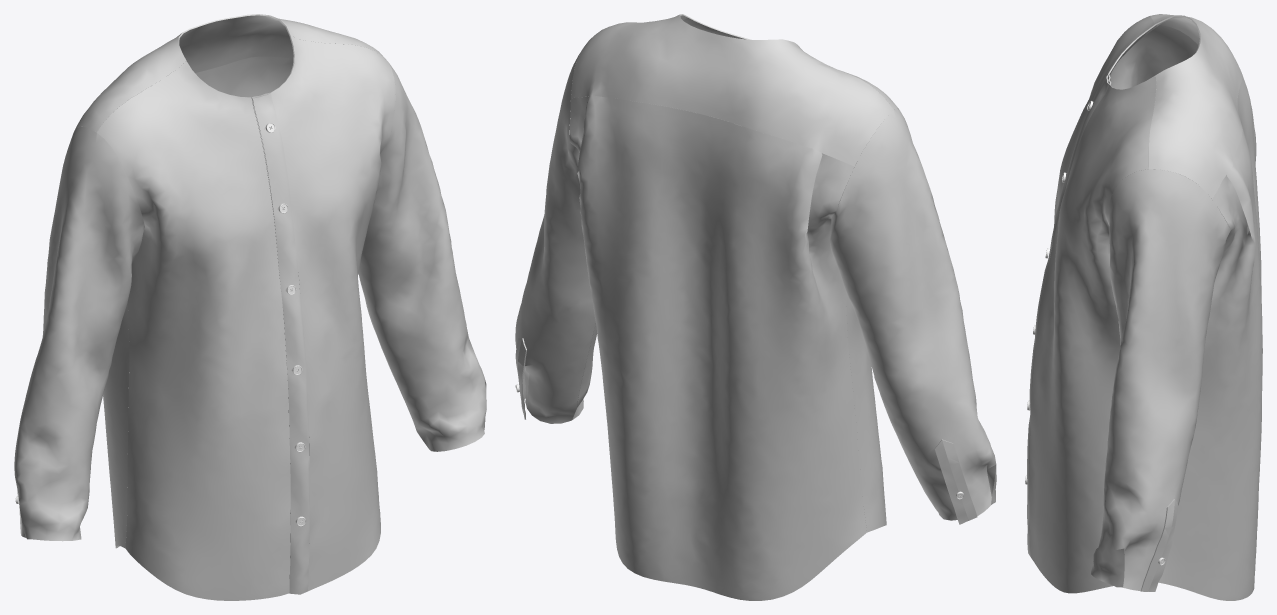
The model's file is shirt-without-cuff-and-collar-1.glb.
The picture shows the model from 3 angles, left to right: view 1: azimuth 30°, elevation 25°; view 2: azimuth 150°, elevation 25°; view 3: azimuth 270°, elevation 25°; orthographic projection. The views are drawn at different scales.
Parts seen in each view (by area): view 1: Body_Front_2_Node, Body_Front_Node, Sleeves_1_Node, Sleeves_Node, Body_Front_Placket_1_Node, Body_Back_Yoke_Node, Body_Back_Node; view 2: Body_Back_Node, Sleeves_1_Node, Body_Back_Yoke_Node, Sleeves_Node, Body_Front_2_Node, Sleeves_Placket_1_Node; view 3: Sleeves_Node, Body_Front_Node, Body_Back_Node, Body_Back_Yoke_Node, Sleeves_1_Node, Body_Front_2_Node, Body_Front_Placket_1_Node, Sleeves_Placket_Node.
Boxes of the visible parts, <box> form: Body_Front_2_Node: <box>96,61,290,600</box>; Body_Front_Node: <box>271,35,395,591</box>; Sleeves_1_Node: <box>14,126,144,541</box>; Sleeves_Node: <box>358,63,486,451</box>; Body_Front_Placket_1_Node: <box>252,93,310,594</box>; Body_Back_Yoke_Node: <box>74,14,386,132</box>; Body_Back_Node: <box>103,56,293,548</box>; Body_Back_Node: <box>569,95,866,600</box>; Sleeves_1_Node: <box>830,108,996,520</box>; Body_Back_Yoke_Node: <box>571,14,893,166</box>; Sleeves_Node: <box>515,54,597,423</box>; Body_Front_2_Node: <box>795,43,898,532</box>; Sleeves_Placket_1_Node: <box>935,439,977,524</box>; Sleeves_Node: <box>1091,169,1230,590</box>; Body_Front_Node: <box>1029,75,1156,593</box>; Body_Back_Node: <box>1158,74,1262,600</box>; Body_Back_Yoke_Node: <box>1149,14,1242,198</box>; Sleeves_1_Node: <box>1110,25,1198,89</box>; Body_Front_2_Node: <box>1054,16,1156,225</box>; Body_Front_Placket_1_Node: <box>1027,75,1109,557</box>; Sleeves_Placket_Node: <box>1140,499,1178,591</box>.
Bounding box in the file's own units: 0.7036 × 0.7556 × 0.3073.
Materials: 9 (6 with a texture image).
